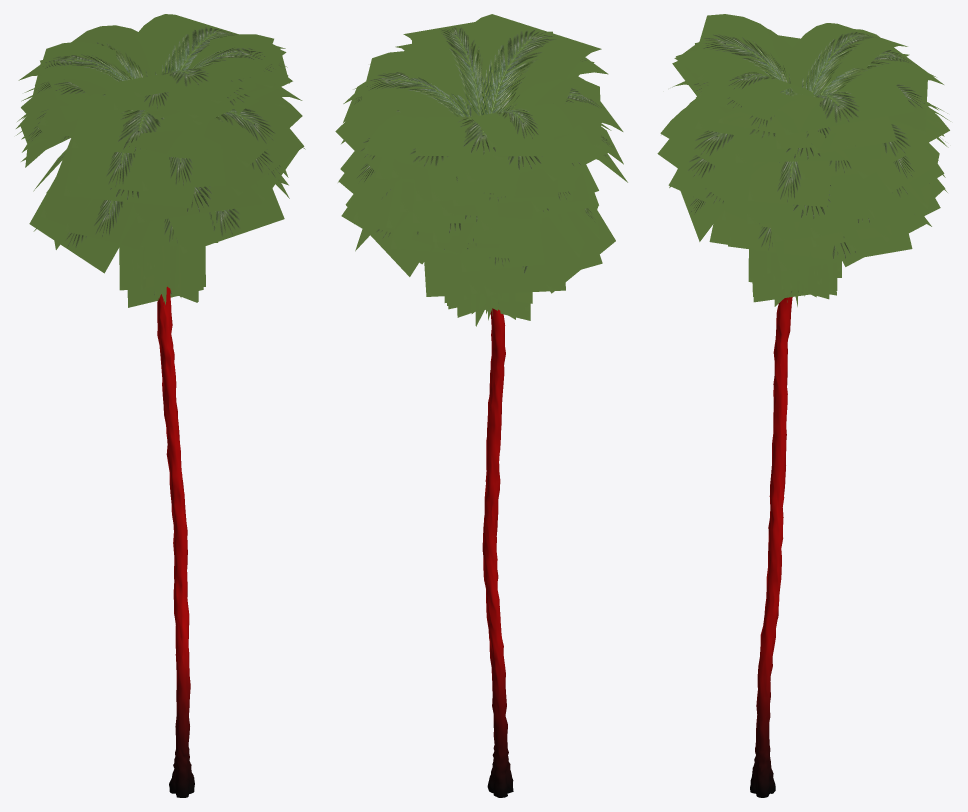
The model's file is Palm_1_12.fbx.
The picture shows the model from 3 angles, left to right: view 1: azimuth 30°, elevation 25°; view 2: azimuth 150°, elevation 25°; view 3: azimuth 270°, elevation 25°; orthographic projection.
Visible parts, largest first — view 1: Palm_1_12; view 2: Palm_1_12; view 3: Palm_1_12.
Part boxes in pixels (x1=…): Palm_1_12: x1=16, y1=14, x2=305, y2=797; Palm_1_12: x1=335, y1=14, x2=627, y2=797; Palm_1_12: x1=657, y1=14, x2=950, y2=797.
Size of the model in its own units: 1747 by 4944 by 1784.
